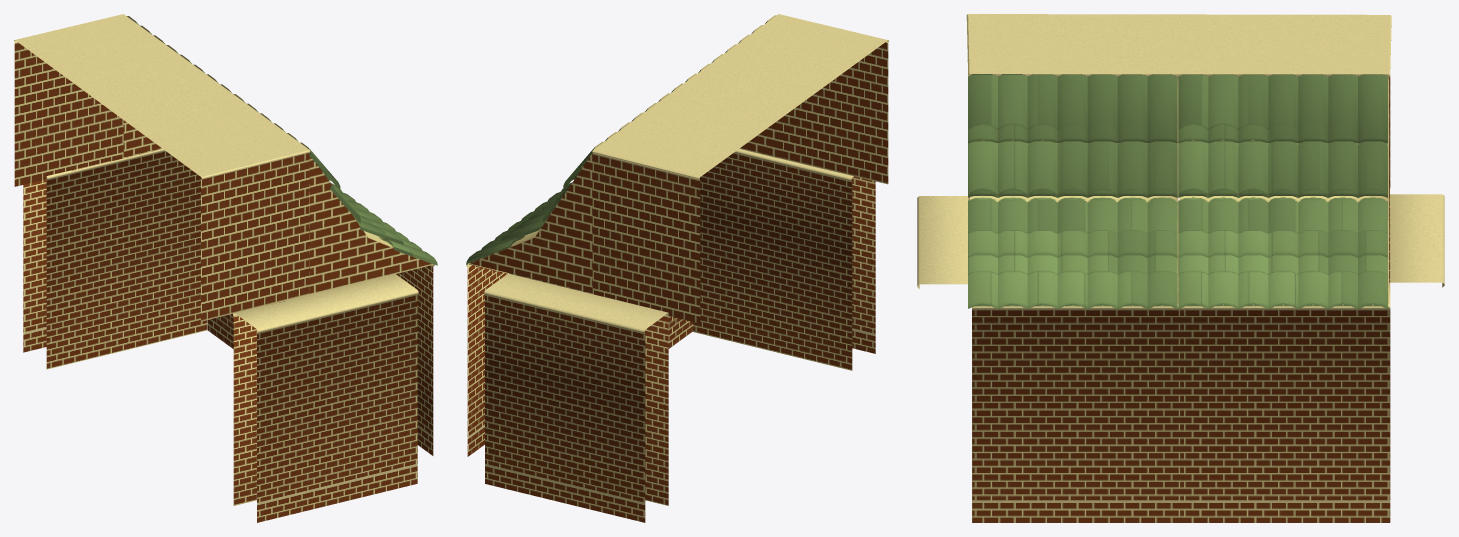
File: IndustriaPequena.fbx
The picture shows the model from 3 angles, left to right: view 1: azimuth 30°, elevation 25°; view 2: azimuth 150°, elevation 25°; view 3: azimuth 270°, elevation 25°; orthographic projection. The views are drawn at different scales.
Visible parts, largest first — view 1: IndustriaPequenaLowPoly; view 2: IndustriaPequenaLowPoly; view 3: IndustriaPequenaLowPoly.
Boxes of the visible parts, <box> form: IndustriaPequenaLowPoly: <box>14,14,437,522</box>; IndustriaPequenaLowPoly: <box>466,14,888,522</box>; IndustriaPequenaLowPoly: <box>917,14,1444,522</box>.
Bounding box in the file's own units: 295 × 403 × 504.
